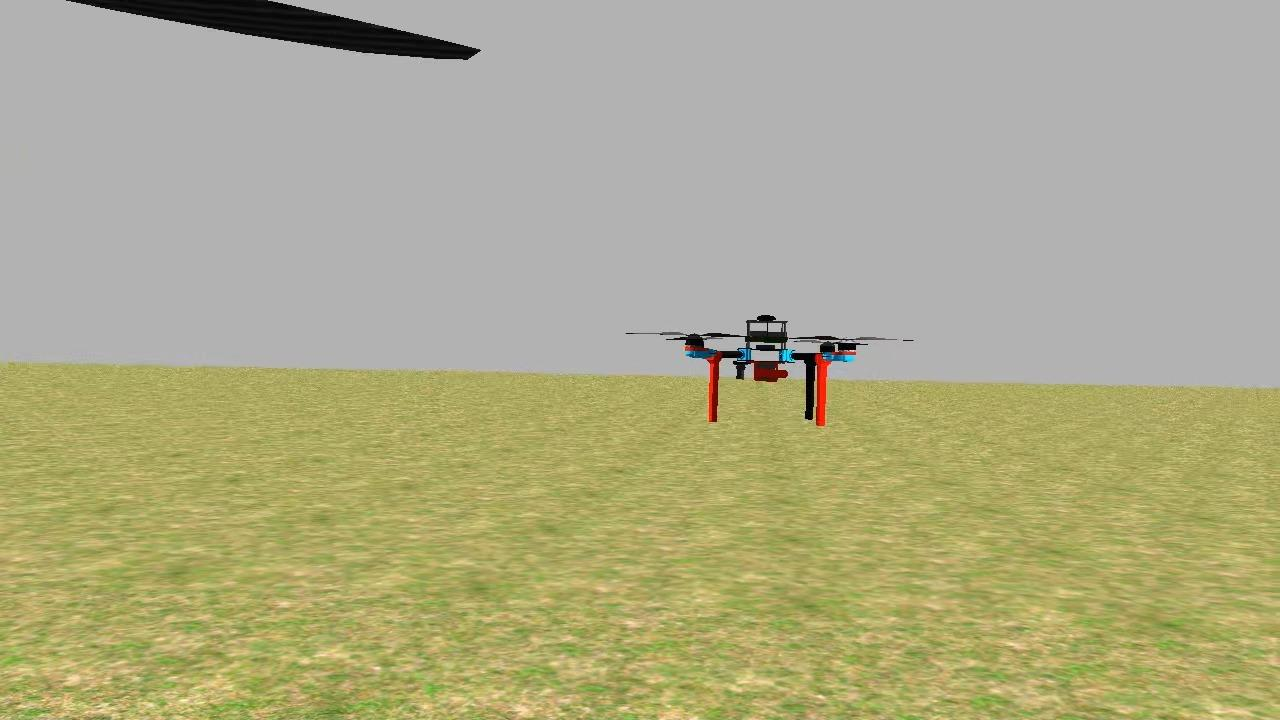UAV: (660, 307, 873, 436)
